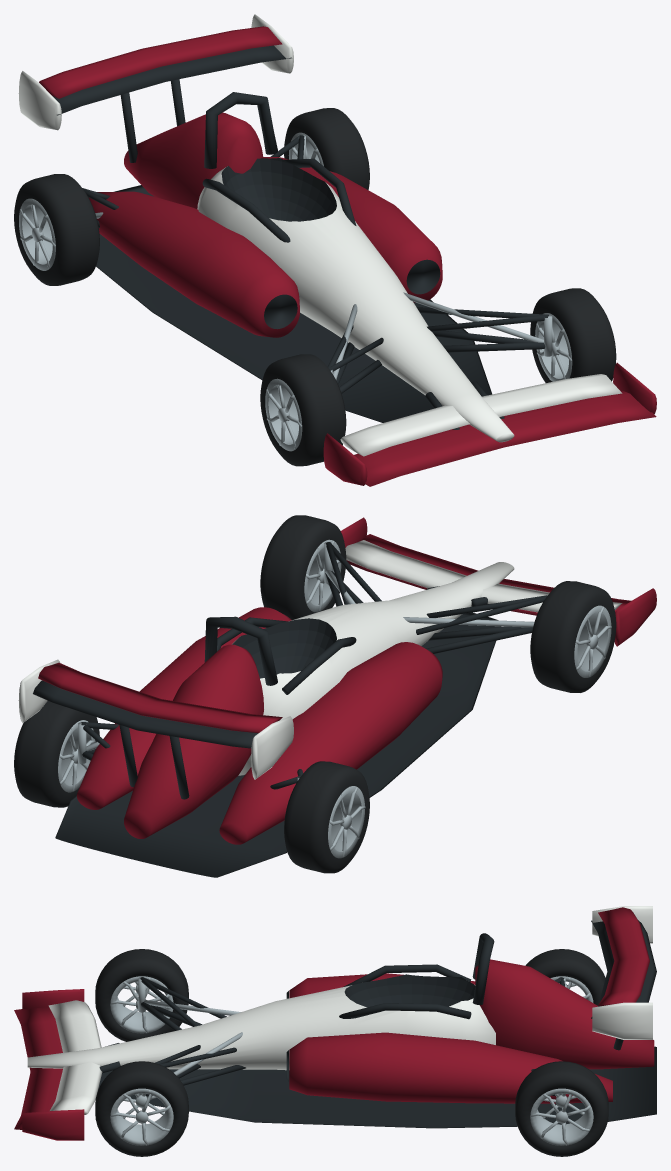
File: drf-sprint-03.glb
3 views of the same model, one above another, from view 1: azimuth 30°, elevation 25°; view 2: azimuth 150°, elevation 25°; view 3: azimuth 270°, elevation 25° (orthographic). The views are drawn at different scales.
Visible parts, largest first — view 1: body-wine, body-ivory, body-carbon, tire.001, tire.002, tire.004, tire.003, forged-wheel-face.002, forged-wheel-face.001, body-alloy, forged-wheel-face.004; view 2: body-wine, body-carbon, body-ivory, tire.002, tire.001, tire.004, tire.003, forged-wheel-face.002, forged-wheel-face.001, body-alloy, forged-wheel-face.003, forged-wheel-face.004; view 3: body-wine, body-ivory, body-carbon, tire.003, tire.004, tire.002, forged-wheel-face.004, forged-wheel-face.003, tire.001, forged-wheel-face.002, body-alloy.
Part boxes in pixels (x1=…): body-wine: x1=39, y1=26, x2=656, y2=486; body-ivory: x1=18, y1=14, x2=622, y2=456; body-carbon: x1=52, y1=45, x2=548, y2=429; tire.001: x1=14, y1=174, x2=99, y2=285; tire.002: x1=260, y1=354, x2=346, y2=466; tire.004: x1=530, y1=288, x2=616, y2=382; tire.003: x1=284, y1=108, x2=369, y2=189; forged-wheel-face.002: x1=265, y1=378, x2=302, y2=451; forged-wheel-face.001: x1=19, y1=198, x2=55, y2=270; body-alloy: x1=95, y1=134, x2=552, y2=379; forged-wheel-face.004: x1=535, y1=313, x2=572, y2=381; body-wine: x1=38, y1=517, x2=656, y2=844; body-carbon: x1=33, y1=542, x2=547, y2=877; body-ivory: x1=18, y1=540, x2=622, y2=779; tire.002: x1=530, y1=581, x2=616, y2=692; tire.001: x1=284, y1=761, x2=369, y2=873; tire.004: x1=260, y1=515, x2=346, y2=620; tire.003: x1=14, y1=700, x2=99, y2=807; forged-wheel-face.002: x1=574, y1=605, x2=611, y2=677; forged-wheel-face.001: x1=328, y1=786, x2=365, y2=858; body-alloy: x1=78, y1=542, x2=534, y2=780; forged-wheel-face.003: x1=58, y1=720, x2=95, y2=792; forged-wheel-face.004: x1=304, y1=539, x2=341, y2=612; body-wine: x1=14, y1=907, x2=654, y2=1140; body-ivory: x1=27, y1=906, x2=652, y2=1114; body-carbon: x1=98, y1=920, x2=656, y2=1128; tire.003: x1=515, y1=1061, x2=608, y2=1156; tire.004: x1=95, y1=1061, x2=188, y2=1156; tire.002: x1=95, y1=949, x2=188, y2=1041; forged-wheel-face.004: x1=110, y1=1088, x2=173, y2=1145; forged-wheel-face.003: x1=530, y1=1088, x2=593, y2=1145; tire.001: x1=525, y1=949, x2=605, y2=1005; forged-wheel-face.002: x1=110, y1=976, x2=173, y2=1033; body-alloy: x1=138, y1=977, x2=565, y2=1094.
Size of the model in its own units: 2.24 by 1.27 by 4.67.
